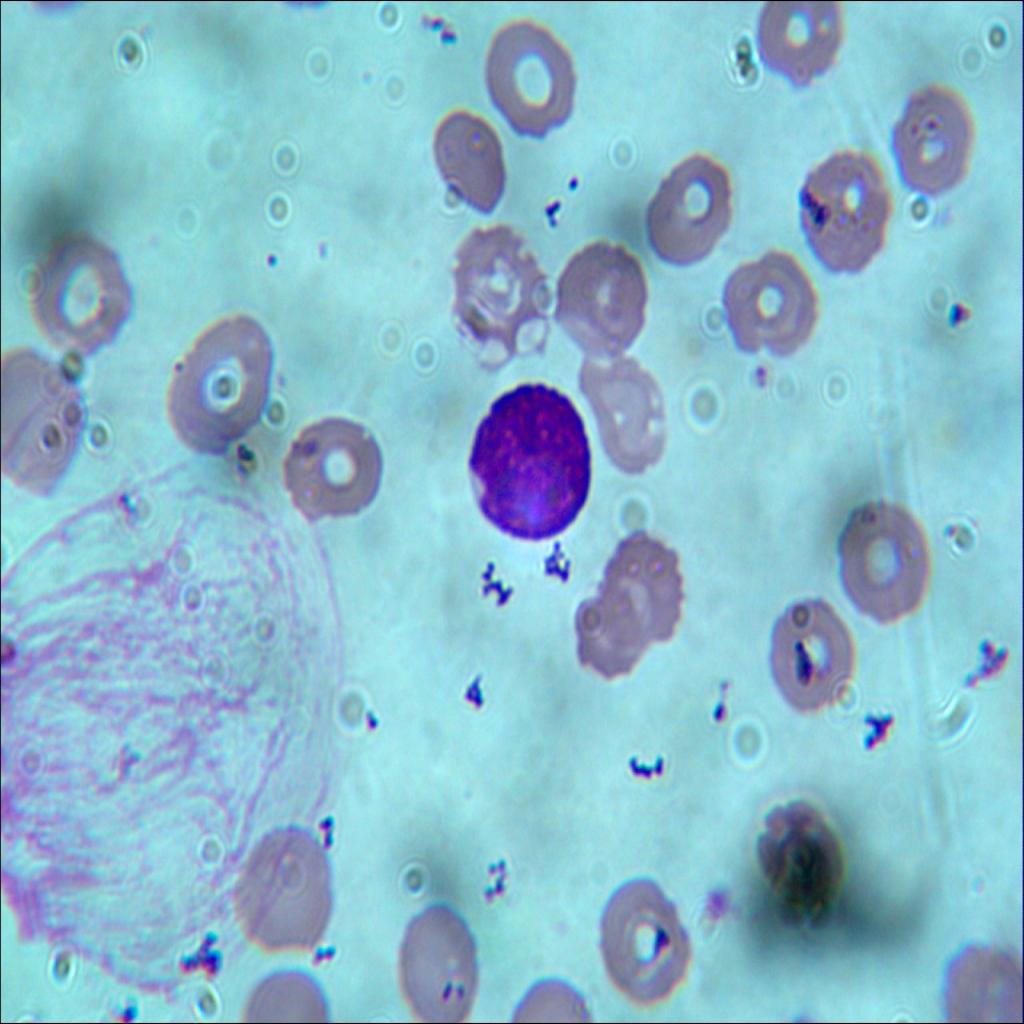Eritrosit: (158, 314, 272, 456), (26, 222, 139, 358), (833, 488, 938, 618), (278, 399, 382, 530), (223, 824, 331, 950), (0, 351, 86, 504), (573, 341, 671, 475), (449, 230, 550, 356), (390, 892, 486, 1023), (748, 797, 846, 925), (598, 871, 691, 1005), (556, 234, 654, 360), (646, 158, 738, 285), (492, 20, 582, 145), (724, 244, 816, 364), (888, 92, 982, 204), (800, 151, 886, 272), (766, 600, 853, 714), (428, 111, 513, 224), (742, 0, 848, 89), (606, 531, 692, 638), (578, 578, 649, 679), (953, 932, 1023, 1023)
Limfoblast: (463, 376, 593, 538)
Platelet: (743, 340, 783, 399), (698, 878, 736, 930), (946, 290, 976, 334), (560, 162, 586, 202), (259, 237, 283, 280), (749, 355, 770, 399), (113, 989, 139, 1023), (359, 702, 384, 732), (712, 696, 734, 724)
